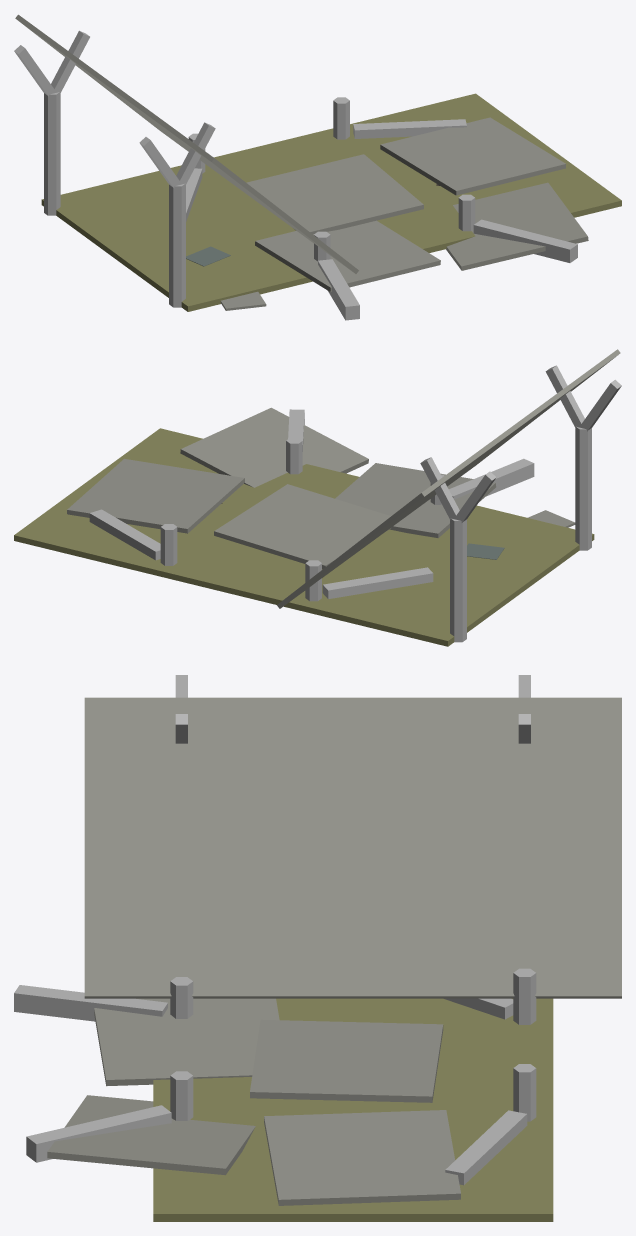
Rendered from SM_MarquesinaBus_v1_Chapas_e2_MuyDanado_LOD1.fbx.
3 views of the same model, one above another, from view 1: azimuth 30°, elevation 25°; view 2: azimuth 150°, elevation 25°; view 3: azimuth 270°, elevation 25° (orthographic). The views are drawn at different scales.
Parts seen in each view (by area): view 1: SM_marquesina_bus_v6_LOD1; view 2: SM_marquesina_bus_v6_LOD1; view 3: SM_marquesina_bus_v6_LOD1.
Boxes of the visible parts, x1,y1,x2,y2 form: SM_marquesina_bus_v6_LOD1: [14, 14, 621, 320]; SM_marquesina_bus_v6_LOD1: [14, 349, 621, 646]; SM_marquesina_bus_v6_LOD1: [14, 675, 621, 1221].
Size of the model in its own units: 12.99 by 4.63 by 10.63.
